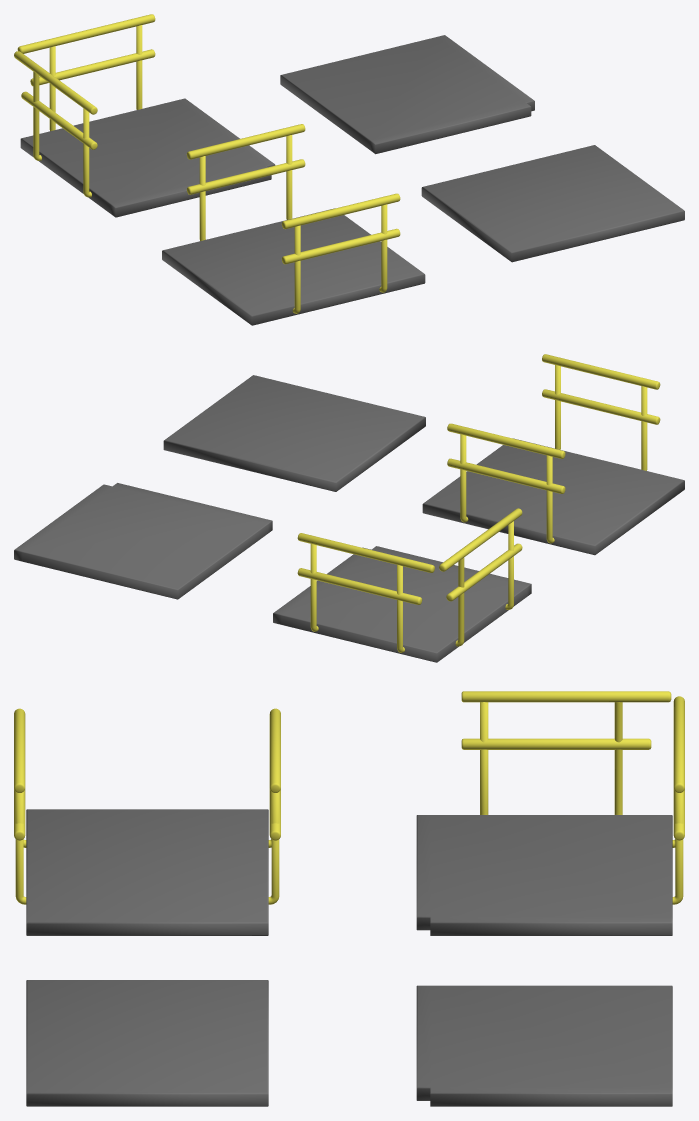
File: WalkwayModular.fbx
The picture shows the model from 3 angles, top to bottom: view 1: azimuth 30°, elevation 25°; view 2: azimuth 150°, elevation 25°; view 3: azimuth 270°, elevation 25°; orthographic projection. The views are drawn at different scales.
Parts seen in each view (by area): view 1: StraightSegmentRail, AngleSegmentRail, StraightSegmentNoRail, AngleSegmentNoRail; view 2: StraightSegmentRail, AngleSegmentRail, AngleSegmentNoRail, StraightSegmentNoRail; view 3: AngleSegmentRail, StraightSegmentRail, AngleSegmentNoRail, StraightSegmentNoRail.
Boxes of the visible parts, x1,y1,x2,y2 form: StraightSegmentRail: [162, 124, 425, 325]; AngleSegmentRail: [14, 14, 275, 217]; StraightSegmentNoRail: [421, 145, 684, 262]; AngleSegmentNoRail: [280, 35, 534, 154]; StraightSegmentRail: [422, 354, 684, 555]; AngleSegmentRail: [273, 508, 531, 662]; AngleSegmentNoRail: [14, 483, 272, 599]; StraightSegmentNoRail: [163, 375, 425, 491]; AngleSegmentRail: [416, 691, 684, 935]; StraightSegmentRail: [14, 708, 280, 935]; AngleSegmentNoRail: [416, 985, 672, 1106]; StraightSegmentNoRail: [26, 980, 268, 1106].
Bounding box in the file's own units: 500 × 110 × 498.
